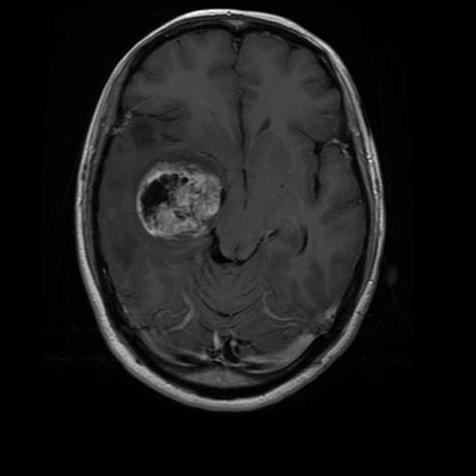Tumour-Glioma: (107, 153, 228, 253)
